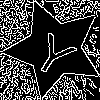Y: (29, 24, 83, 81)
